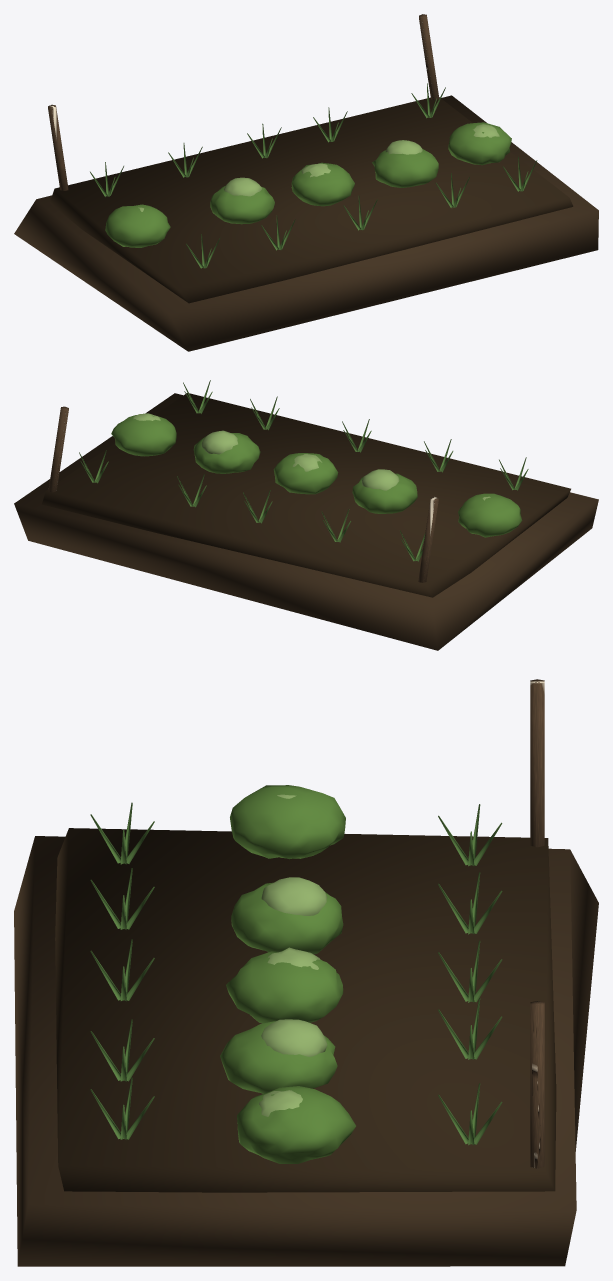
File: veg_plot.glb
The picture shows the model from 3 angles, top to bottom: view 1: azimuth 30°, elevation 25°; view 2: azimuth 150°, elevation 25°; view 3: azimuth 270°, elevation 25°; orthographic projection. The views are drawn at different scales.
Visible parts, largest first — view 1: geometry_0, geometry_1; view 2: geometry_0, geometry_1; view 3: geometry_0, geometry_1.
Part boxes in pixels (x1,y1,x2,y2): geometry_0: (14,83,598,351); geometry_1: (48,14,439,190); geometry_0: (14,380,598,650); geometry_1: (48,406,438,582); geometry_0: (14,785,598,1266); geometry_1: (530,679,544,1168).
Size of the model in its own units: 2.69 by 0.8016 by 1.77.
2 materials, 1 textured.
